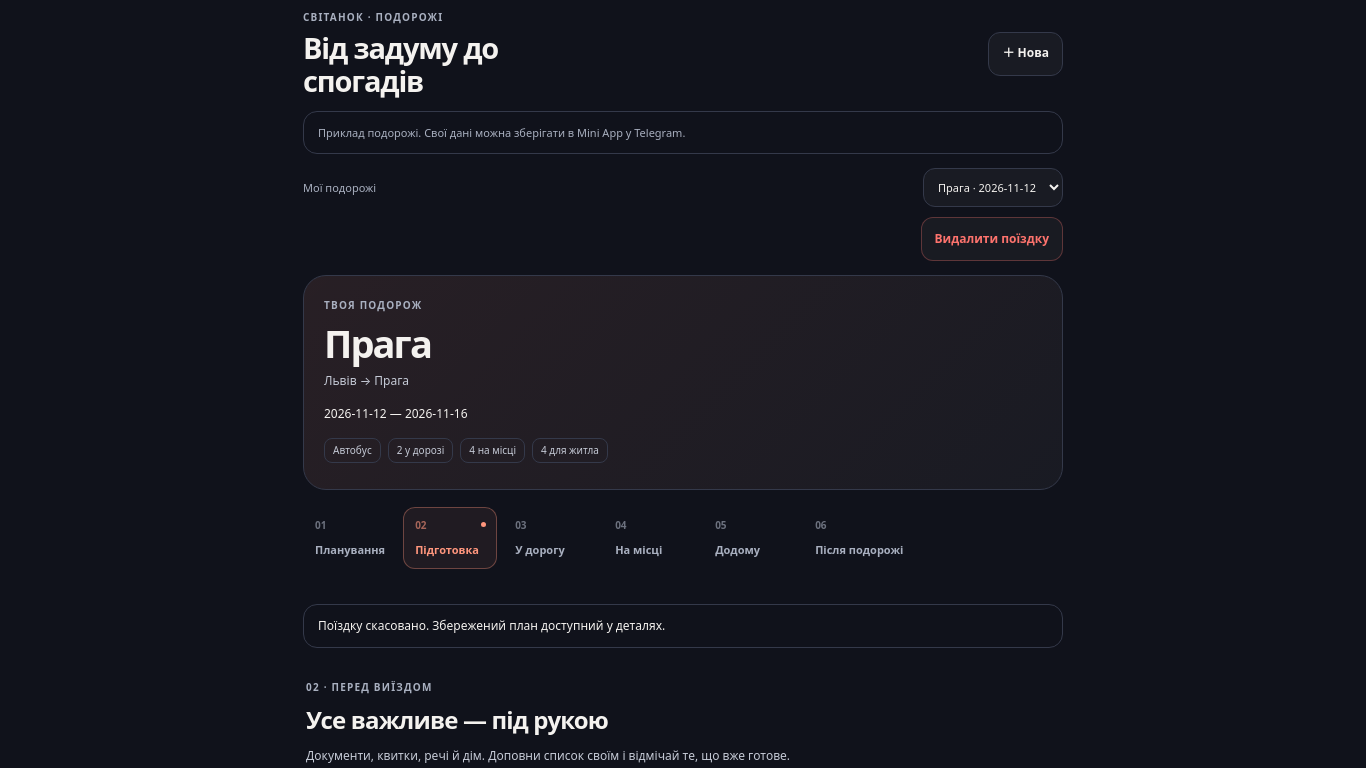
Scenario: deleting a trip from Mini App › allows deletion of a cancelled trip in either view ()
Click the button "Видалити поїздку" at (992, 239), box left=920, top=217, right=1063, bottom=261
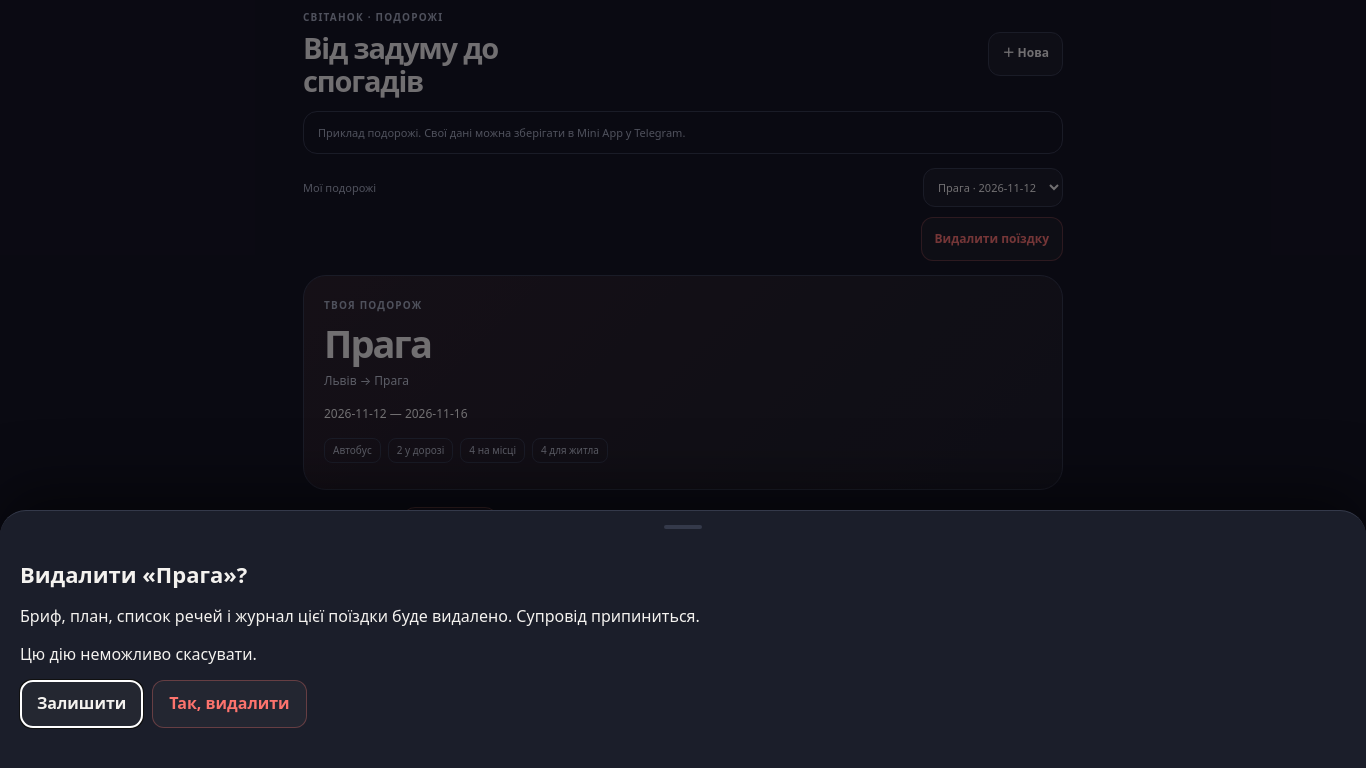
expect the dialog shows "Супровід припиниться": met, box left=20, top=605, right=700, bottom=627
Click the button "Так, видалити" at (230, 704), box left=152, top=680, right=307, bottom=728
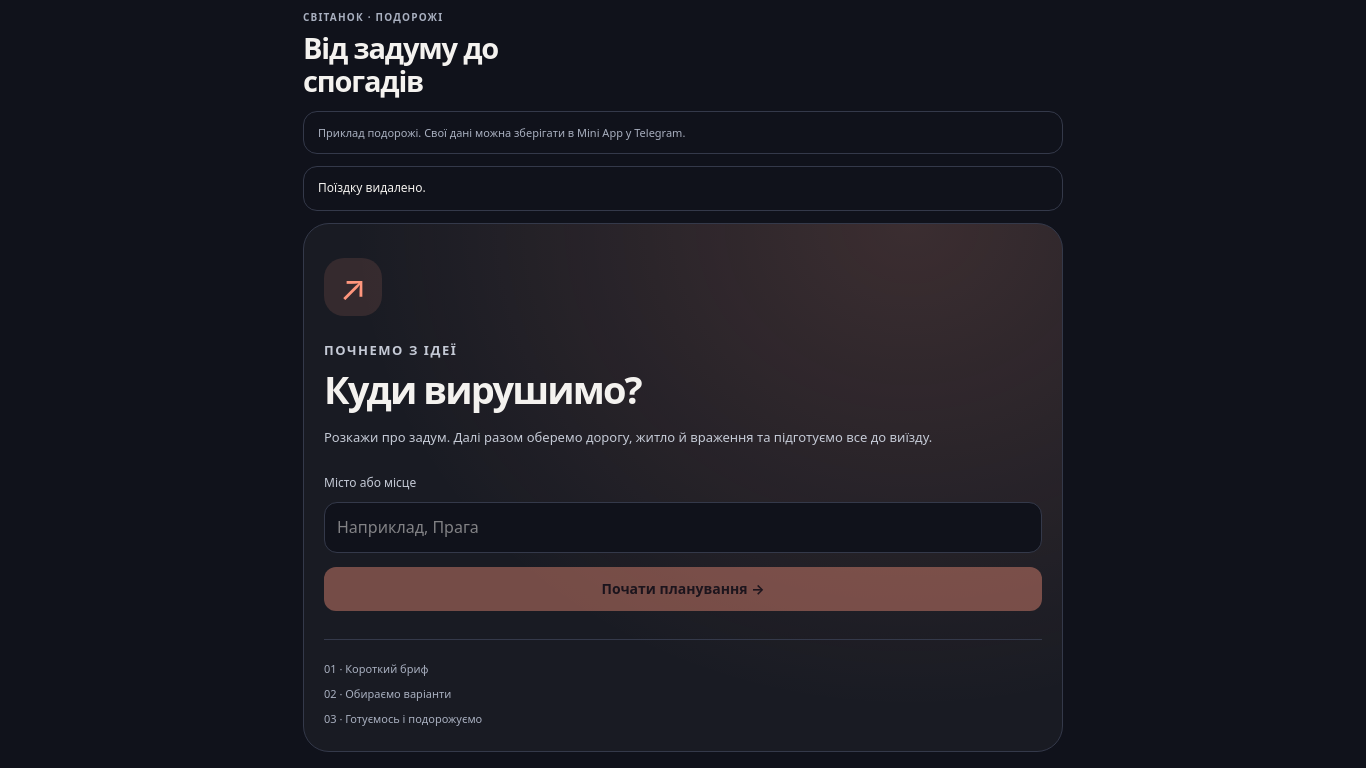
expect the text "Поїздку видалено." is shown: met, box left=303, top=166, right=1063, bottom=211
